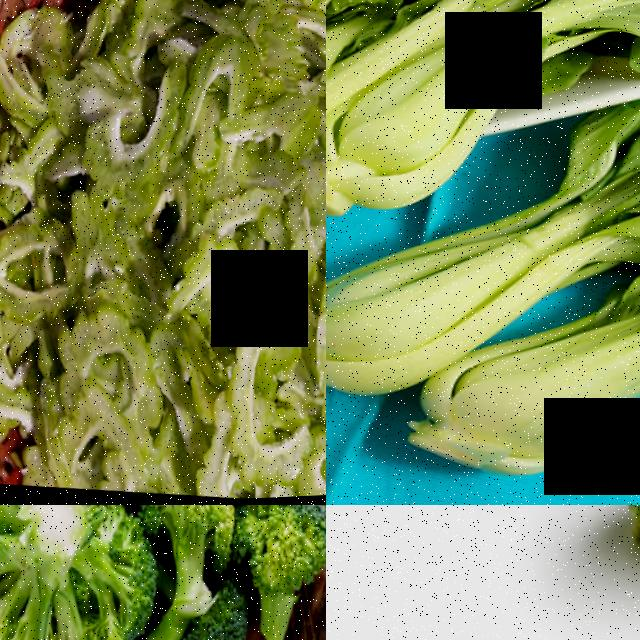bitter gourd: (0, 0, 326, 505)
bok choy: (326, 0, 601, 255), (326, 186, 564, 444), (375, 306, 640, 505)
broccoli: (0, 505, 149, 640), (107, 505, 227, 621), (224, 505, 326, 640), (544, 505, 640, 622)
